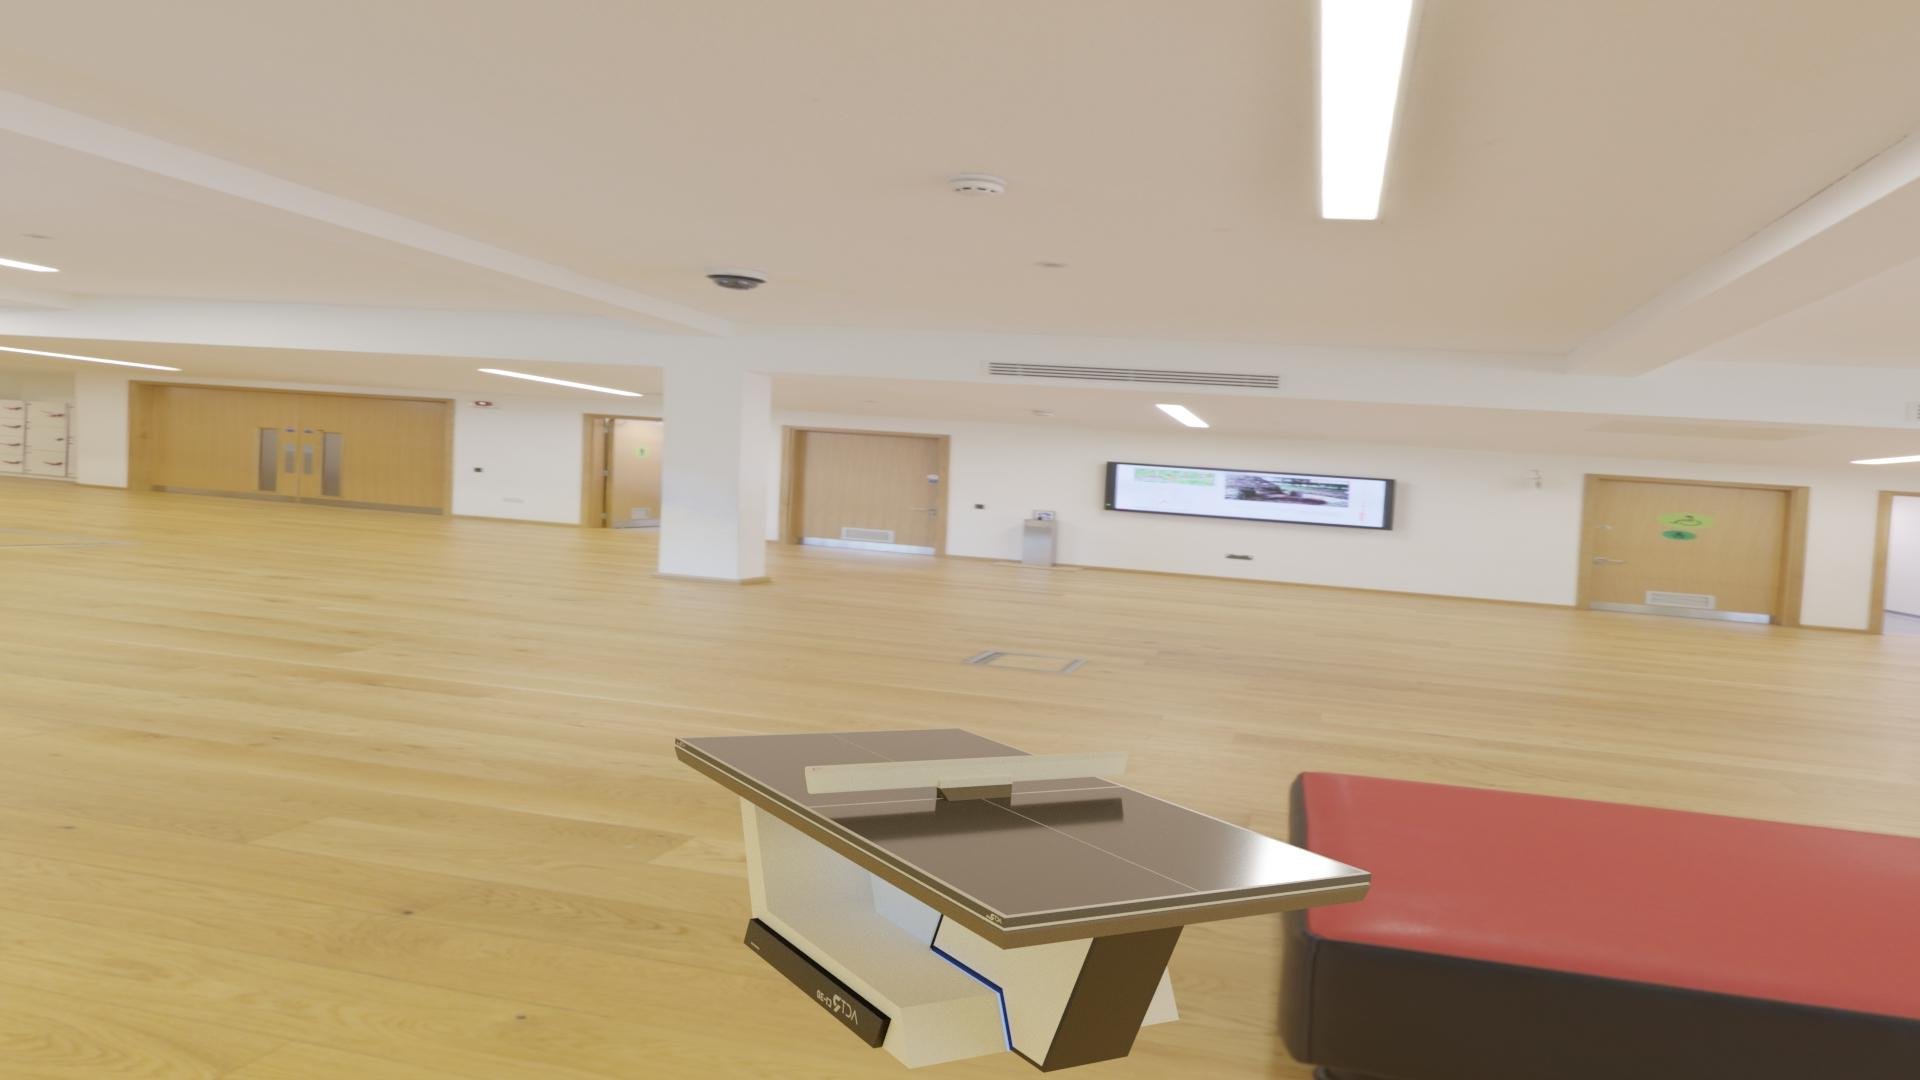table: (680, 728, 1364, 915)
